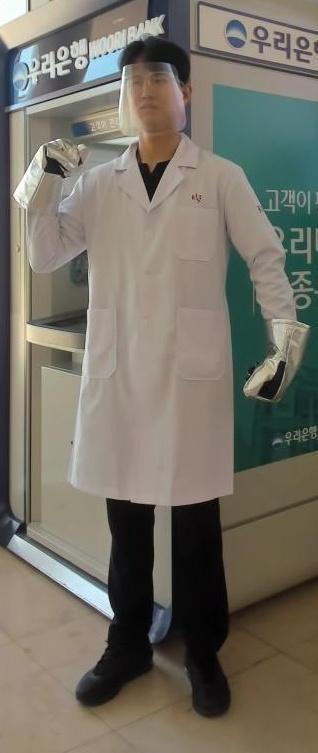lab_coat: (67, 172, 247, 502)
